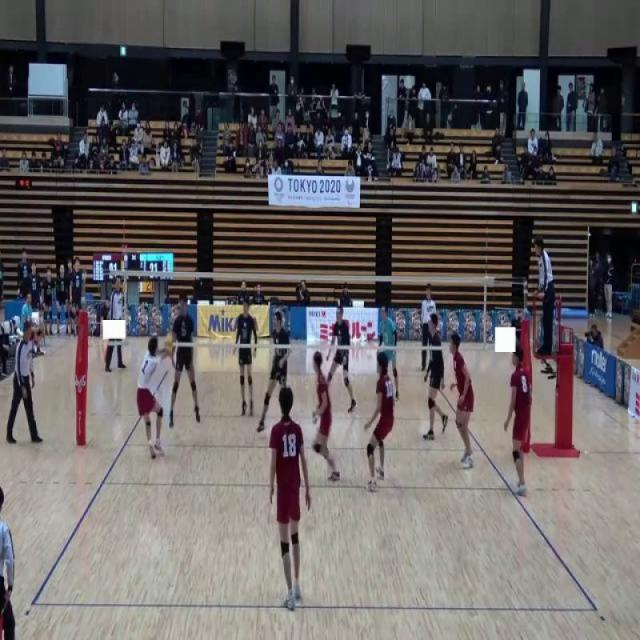volleyball: (163, 332, 173, 348)
